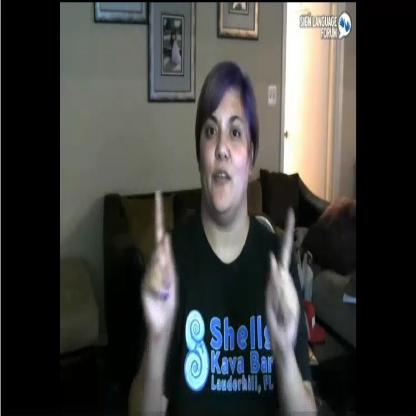NiceToMeetYou: (142, 180, 307, 376)
